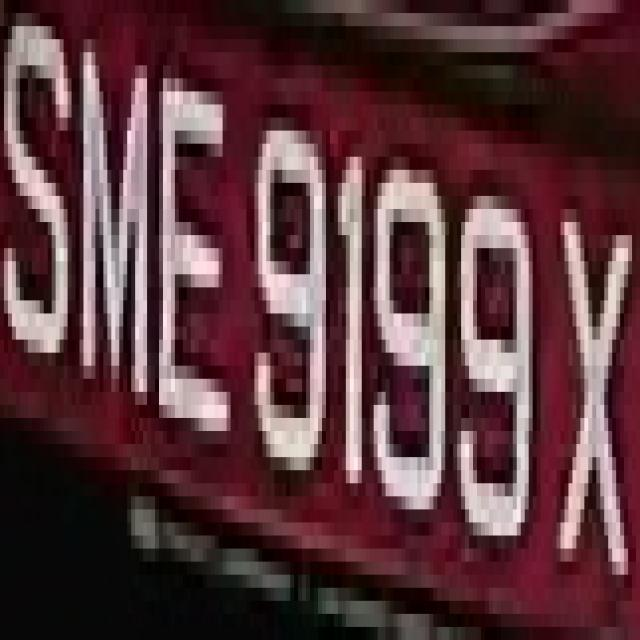1: (330, 66, 374, 510)
9: (453, 183, 541, 588), (242, 118, 330, 522), (370, 157, 445, 522)
E: (155, 79, 239, 458)
M: (76, 26, 159, 418)
S: (0, 0, 68, 392)
X: (553, 157, 636, 614)
